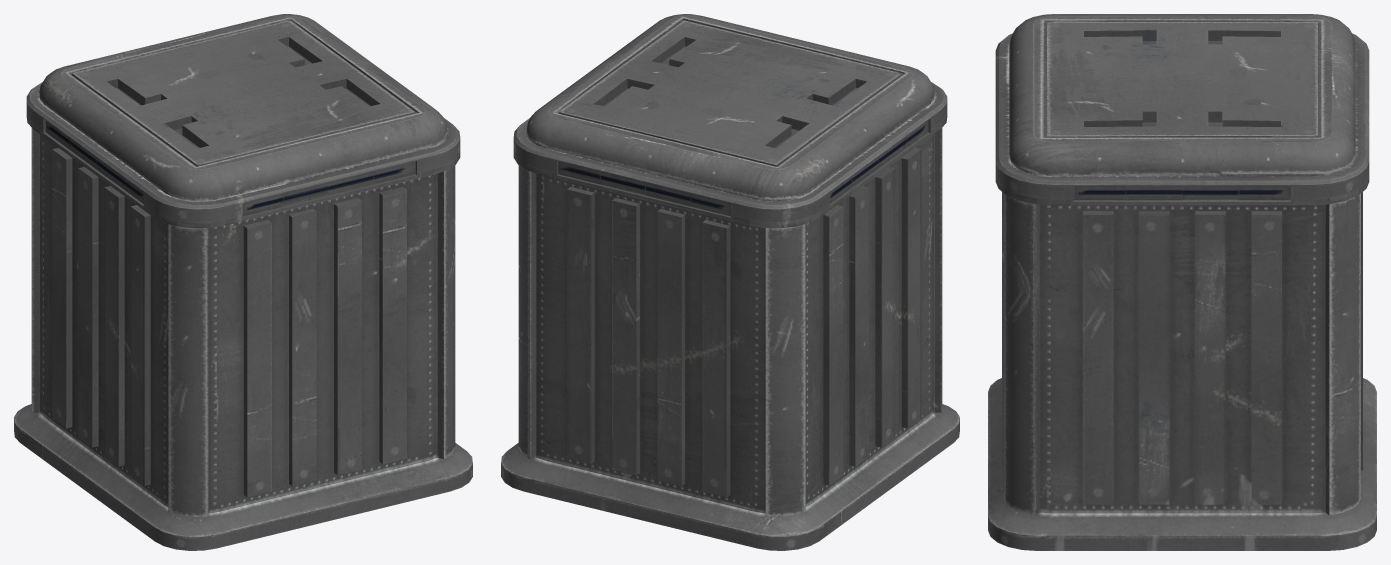
3 renders of one model, left to right at view 1: azimuth 30°, elevation 25°; view 2: azimuth 150°, elevation 25°; view 3: azimuth 270°, elevation 25°, orthographic. The views are drawn at different scales.
Visible parts, largest first — view 1: crate1; view 2: crate1; view 3: crate1.
Boxes of the visible parts, box(x1,y1,x2,y2) form: crate1: box(14, 14, 472, 550); crate1: box(501, 14, 959, 550); crate1: box(988, 14, 1376, 550).
Size of the model in its own units: 454 by 505 by 454.
1 material, 1 textured.
